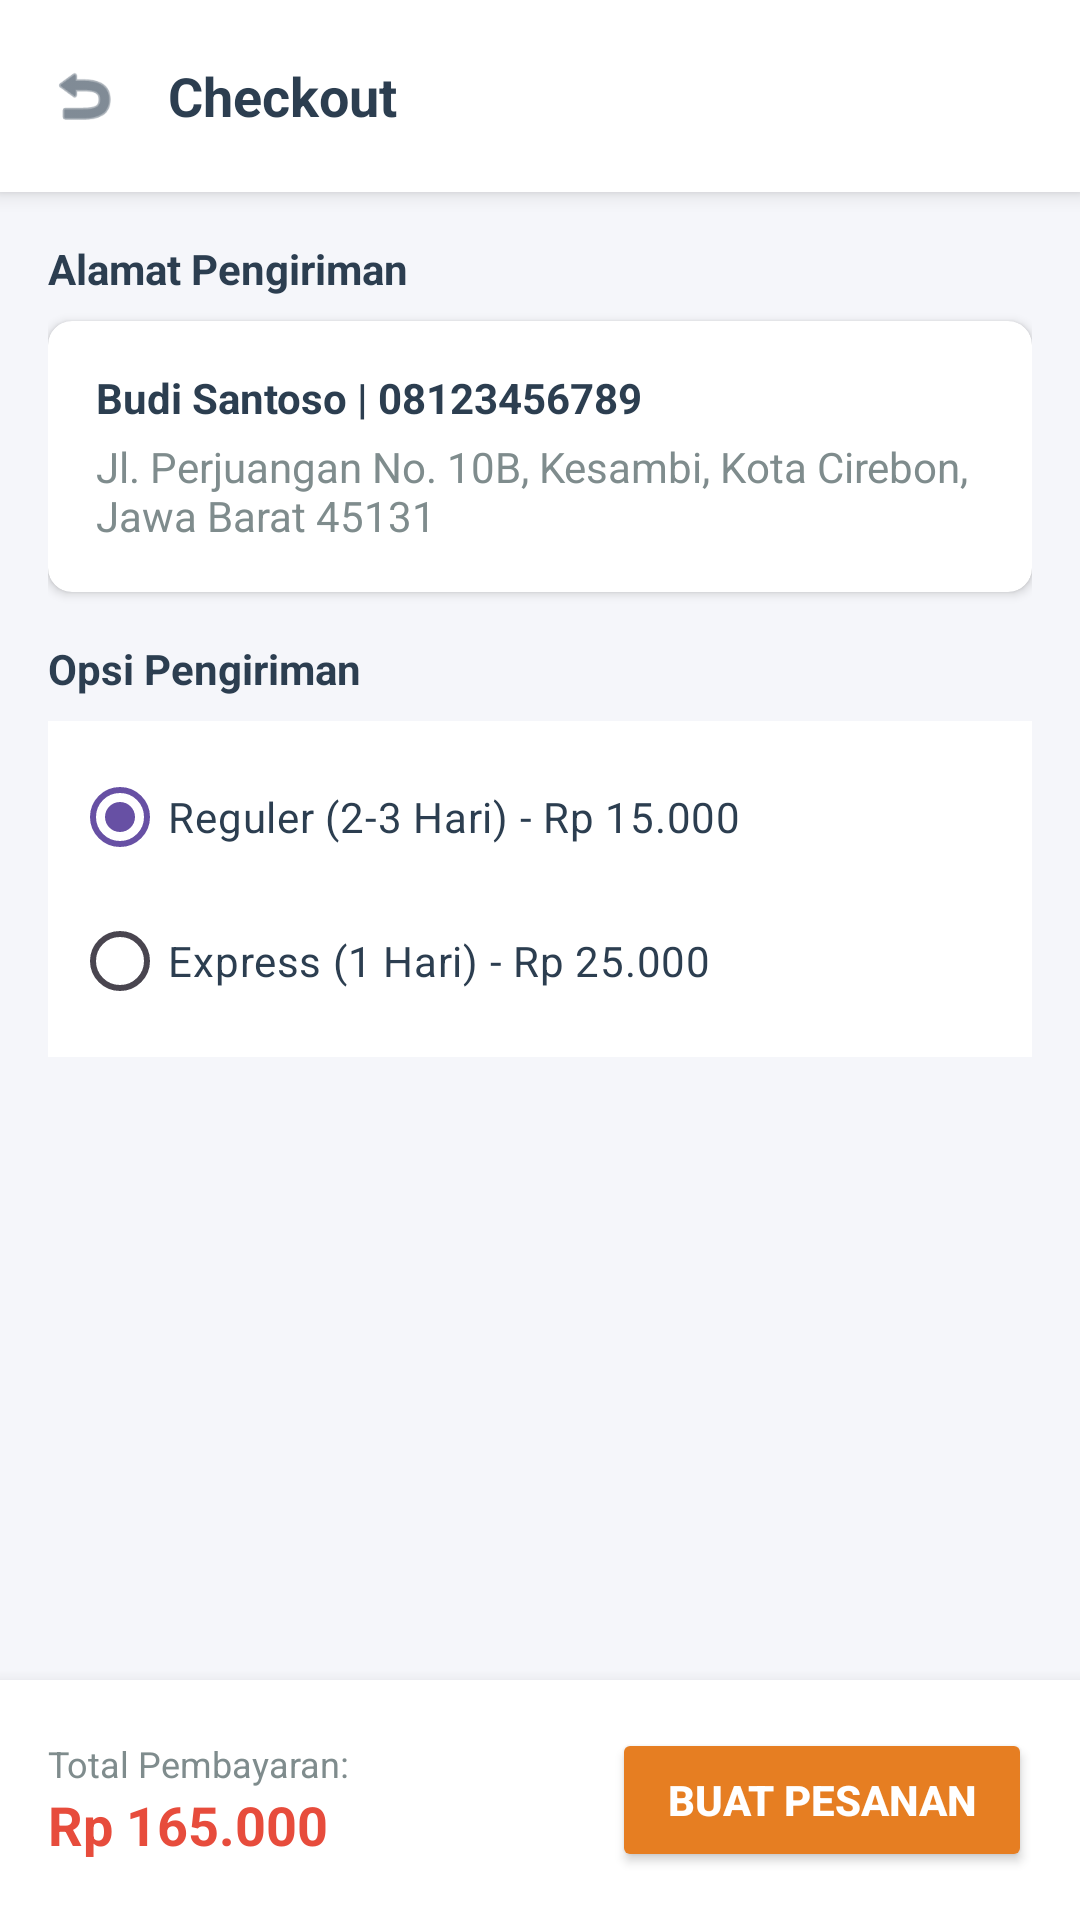

Named icons in this screenshot (1080px×1920px) and their bounding boxes, {"left": x1, "top": y1, "right": x2, "bottom": y2}:
revert: {"left": 59, "top": 73, "right": 111, "bottom": 120}
